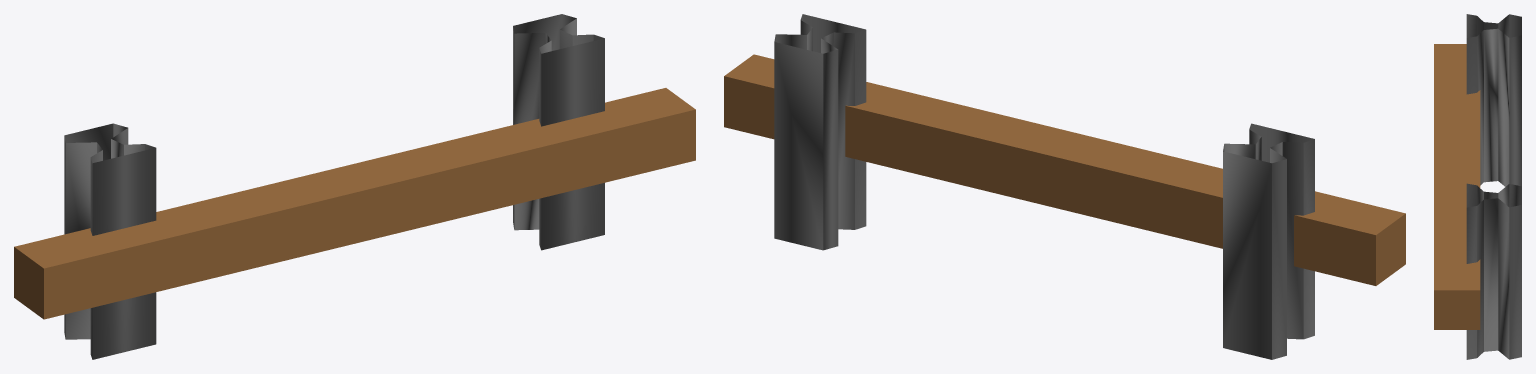
The model's file is railElementSingleRail.fbx.
The picture shows the model from 3 angles, left to right: view 1: azimuth 30°, elevation 25°; view 2: azimuth 150°, elevation 25°; view 3: azimuth 270°, elevation 25°; orthographic projection. The views are drawn at different scales.
Parts seen in each view (by area): view 1: railelement; view 2: railelement; view 3: railelement.
Part boxes in pixels (x1=…): railelement: x1=14, y1=14, x2=695, y2=359; railelement: x1=724, y1=14, x2=1405, y2=359; railelement: x1=1434, y1=14, x2=1521, y2=359.
Size of the model in its own units: 1.02 by 0.1533 by 0.2933.
